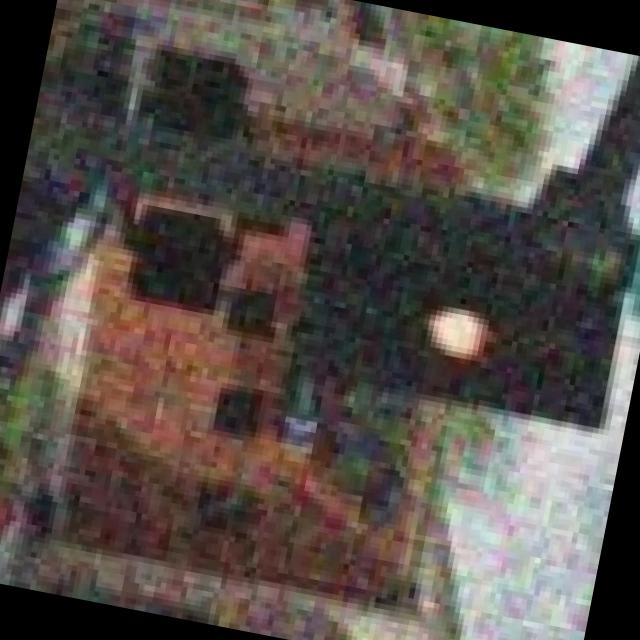red-lights: (411, 292, 502, 381)
